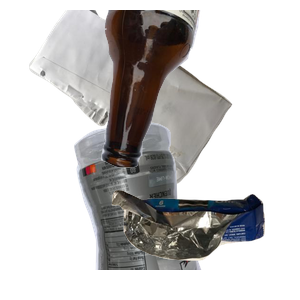glass: (99, 10, 300, 170)
paper: (27, 10, 252, 187)
plastic: (71, 120, 265, 300)
trash: (109, 187, 300, 300)
